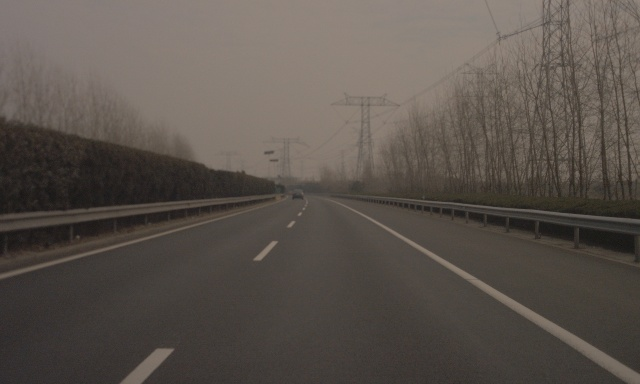car: (291, 189, 303, 199)
